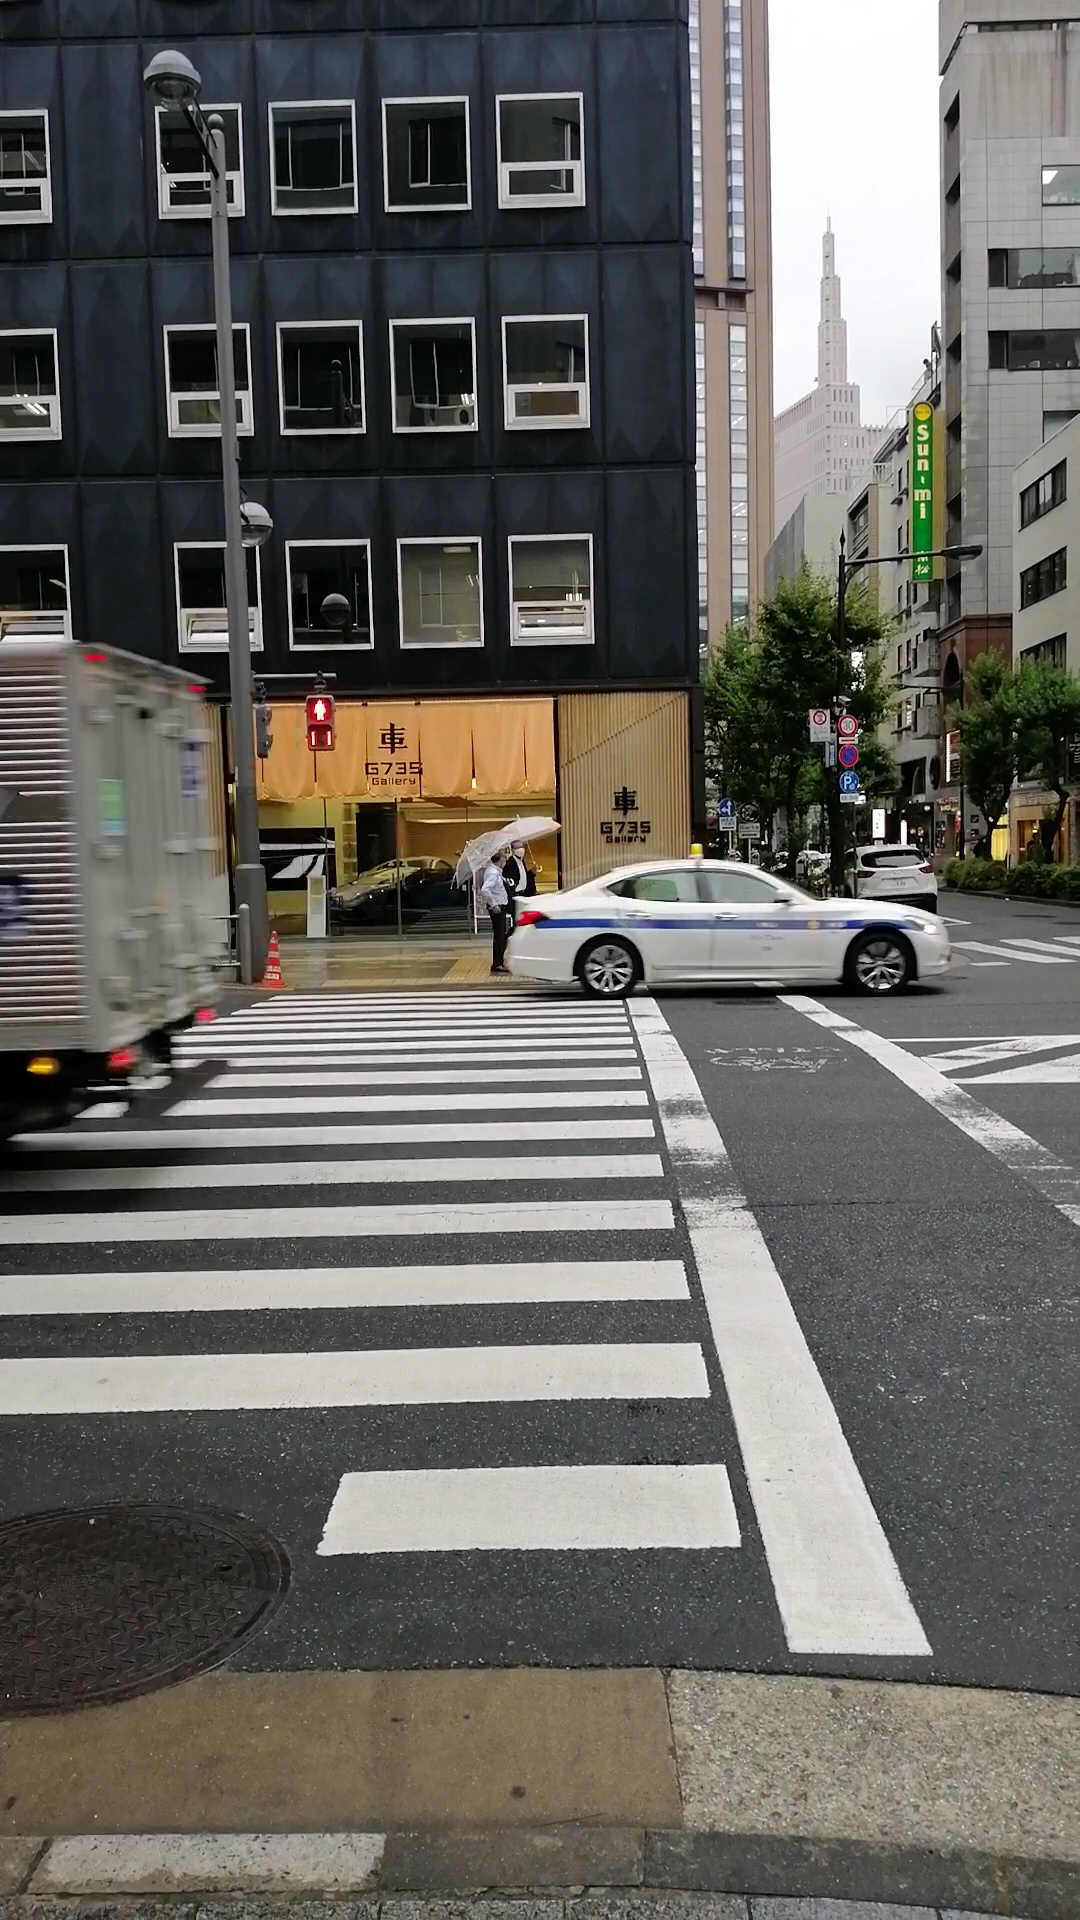red: (305, 691, 334, 756)
